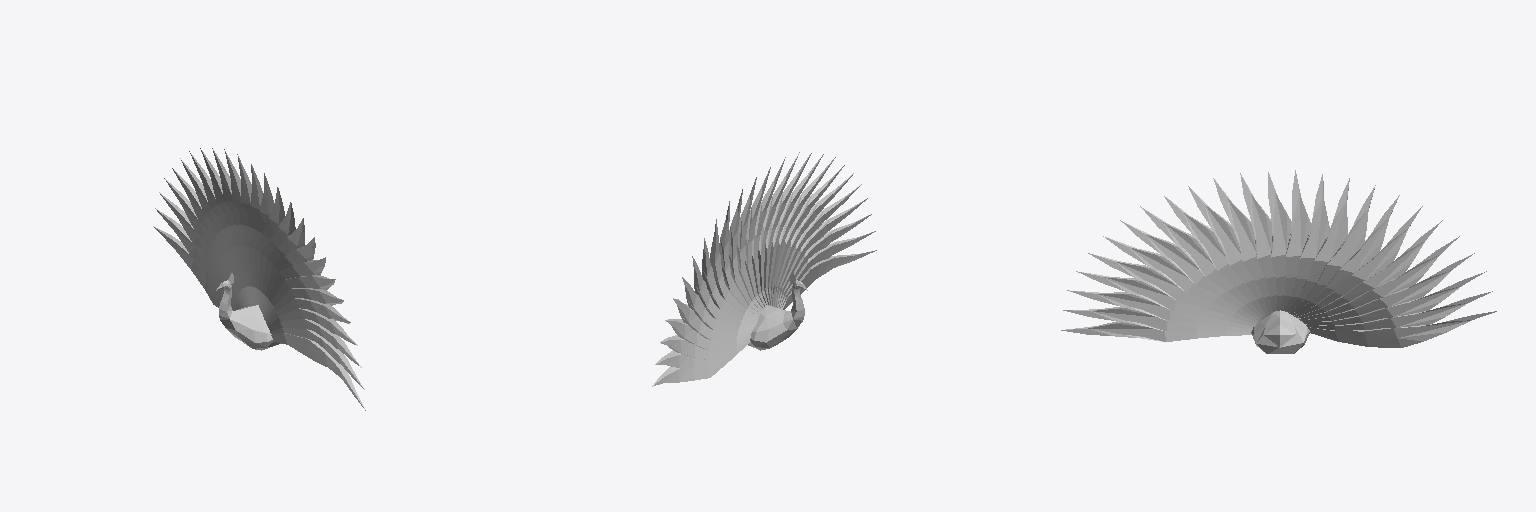
File: paun2.obj
3 views of the same model, side by side, from view 1: azimuth 30°, elevation 25°; view 2: azimuth 150°, elevation 25°; view 3: azimuth 270°, elevation 25° (orthographic).
Parts seen in each view (by area): view 1: paun:Mesh; view 2: paun:Mesh; view 3: paun:Mesh.
Part boxes in pixels (left/top/right/bottom): paun:Mesh: left=153, top=148, right=365, bottom=410; paun:Mesh: left=652, top=152, right=876, bottom=386; paun:Mesh: left=1061, top=170, right=1496, bottom=353.
Size of the model in its own units: 1.31 by 2.74 by 6.26.